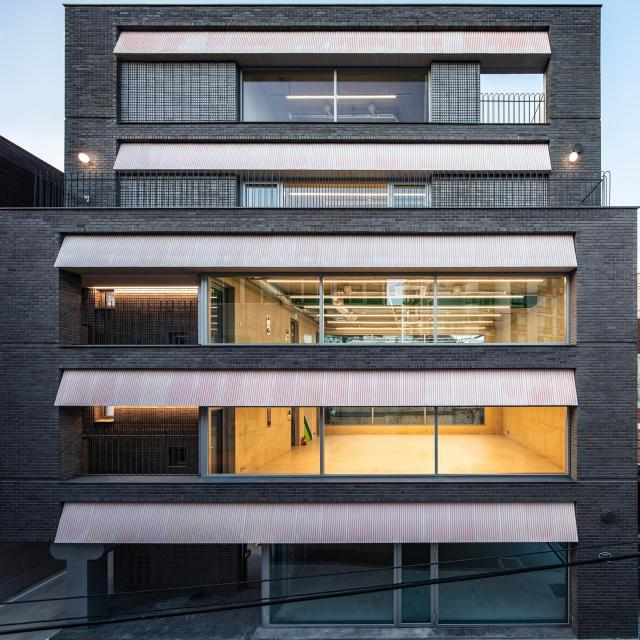door: (397, 544, 443, 625)
railing: (34, 169, 607, 207), (84, 427, 204, 476), (84, 303, 197, 345), (482, 93, 547, 123)
window: (209, 273, 570, 344), (233, 405, 570, 476), (439, 544, 571, 624), (241, 68, 424, 124), (272, 541, 396, 622), (479, 70, 547, 89)
